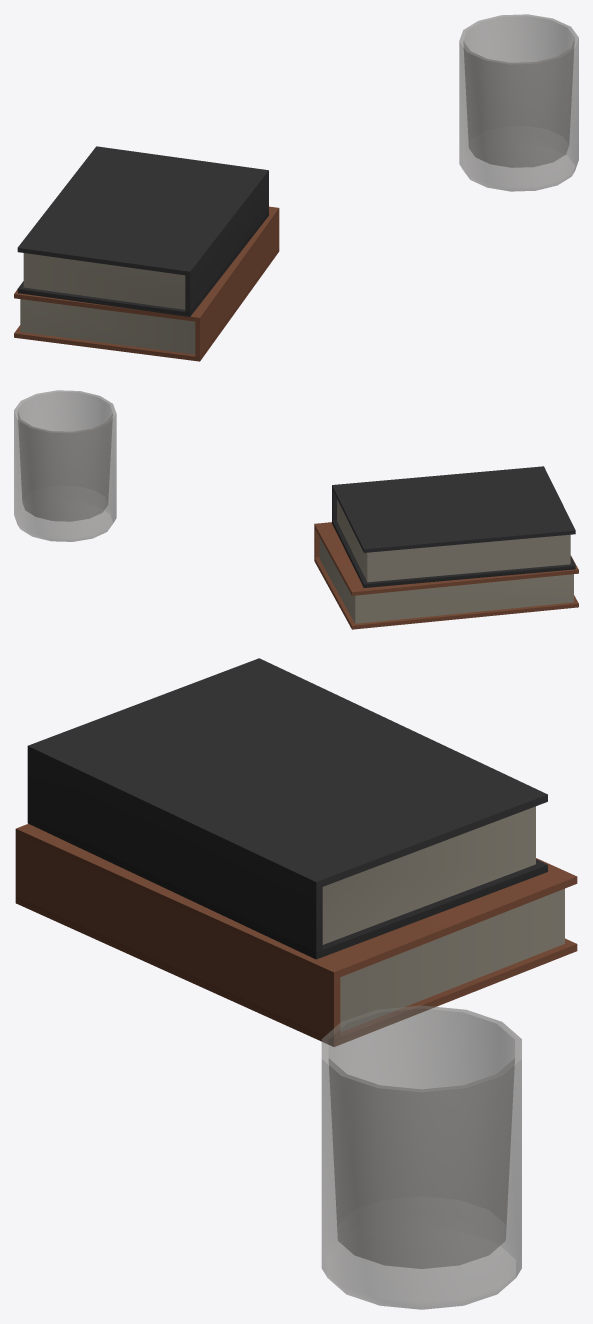
File: decor_a_table_side_glass.gltf
3 views of the same model, one above another, from view 1: azimuth 30°, elevation 25°; view 2: azimuth 150°, elevation 25°; view 3: azimuth 270°, elevation 25° (orthographic). The views are drawn at different scales.
Visible parts, largest first — view 1: DecorATableSideGlass_BookCharcoal_NoCollide, DecorATableSideGlass_glass_NoCollide, DecorATableSideGlass_BookCream_NoCollide, DecorATableSideGlass_BookRust_NoCollide; view 2: DecorATableSideGlass_BookCharcoal_NoCollide, DecorATableSideGlass_glass_NoCollide, DecorATableSideGlass_BookCream_NoCollide, DecorATableSideGlass_BookRust_NoCollide; view 3: DecorATableSideGlass_BookCharcoal_NoCollide, DecorATableSideGlass_glass_NoCollide, DecorATableSideGlass_BookRust_NoCollide, DecorATableSideGlass_BookCream_NoCollide.
Boxes of the visible parts, x1,y1,x2,y2 form: DecorATableSideGlass_BookCharcoal_NoCollide: [17, 146, 268, 316]; DecorATableSideGlass_glass_NoCollide: [459, 14, 578, 191]; DecorATableSideGlass_BookCream_NoCollide: [20, 253, 195, 354]; DecorATableSideGlass_BookRust_NoCollide: [14, 206, 279, 361]; DecorATableSideGlass_BookCharcoal_NoCollide: [332, 466, 575, 587]; DecorATableSideGlass_glass_NoCollide: [14, 390, 116, 541]; DecorATableSideGlass_BookCream_NoCollide: [319, 499, 573, 623]; DecorATableSideGlass_BookRust_NoCollide: [314, 522, 578, 629]; DecorATableSideGlass_BookCharcoal_NoCollide: [27, 658, 547, 959]; DecorATableSideGlass_glass_NoCollide: [321, 1005, 521, 1309]; DecorATableSideGlass_BookRust_NoCollide: [15, 823, 577, 1046]; DecorATableSideGlass_BookCream_NoCollide: [322, 806, 564, 1031].
Bounding box in the file's own units: 0.4184 × 0.085 × 0.1965.
